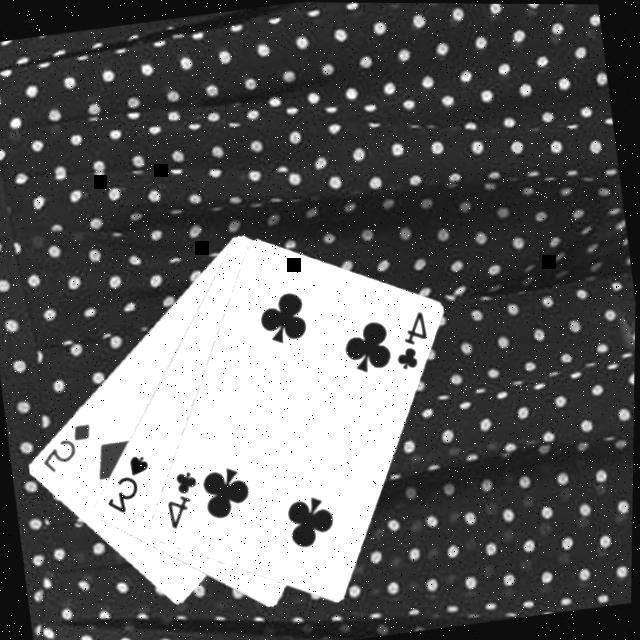3S: (97, 449, 158, 518)
4C: (384, 305, 434, 373), (158, 466, 205, 532)
5D: (33, 418, 99, 478)
